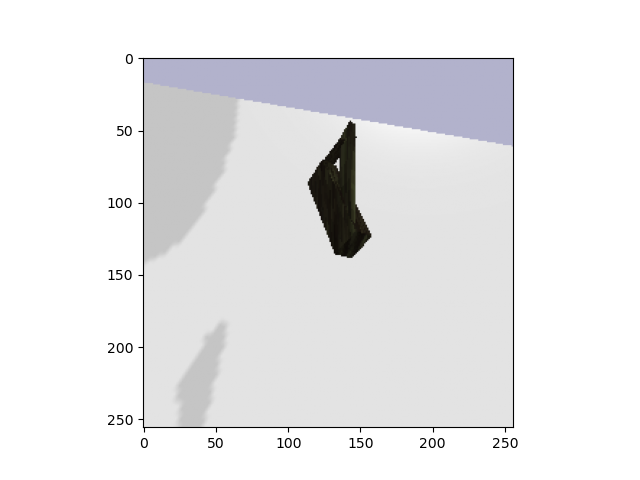v249b387_109: (291, 117, 385, 268)
